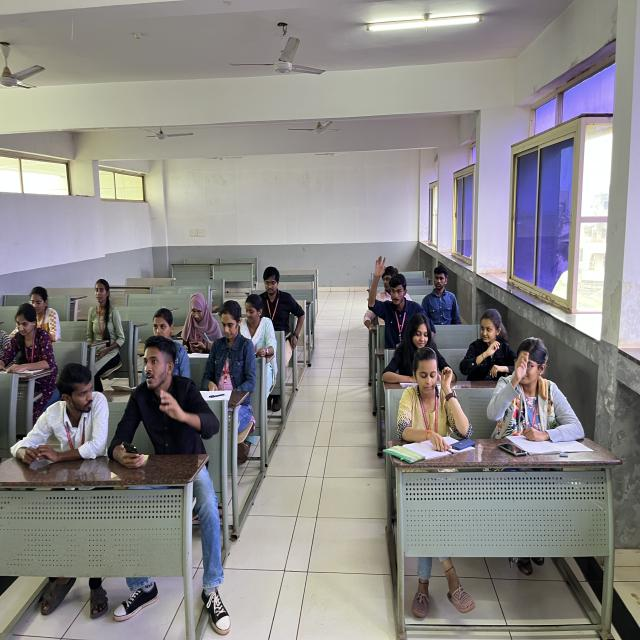Hand Rising: (363, 250, 418, 348)
Reading: (380, 342, 476, 468), (195, 298, 264, 434), (0, 300, 55, 383), (255, 263, 300, 330)
Using Phone: (106, 332, 225, 468), (178, 286, 224, 358)
